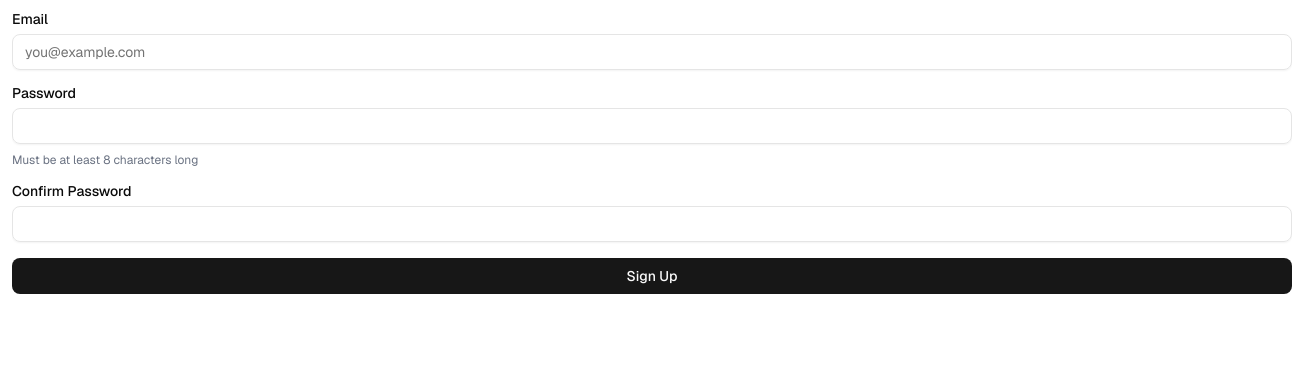
it: SignUpForm › failed sign up › displays fallback error when no error message provided
The image size is (1304, 365).
Type "password123" into the password field labelled "Password". click: (652, 126)
box: x1=12 y1=108 x2=1292 y2=144
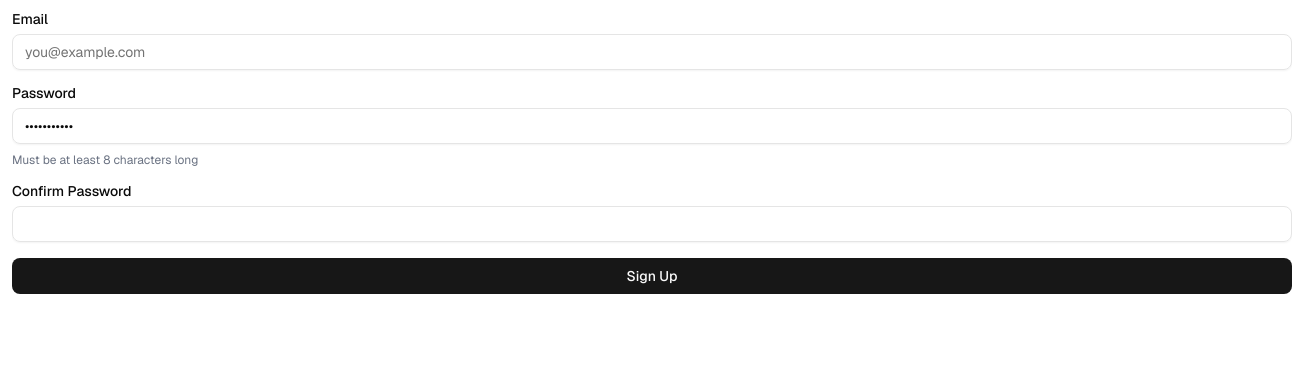
Type "password123" into the password field labelled "Confirm Password". click: (652, 224)
box: x1=12 y1=206 x2=1292 y2=242
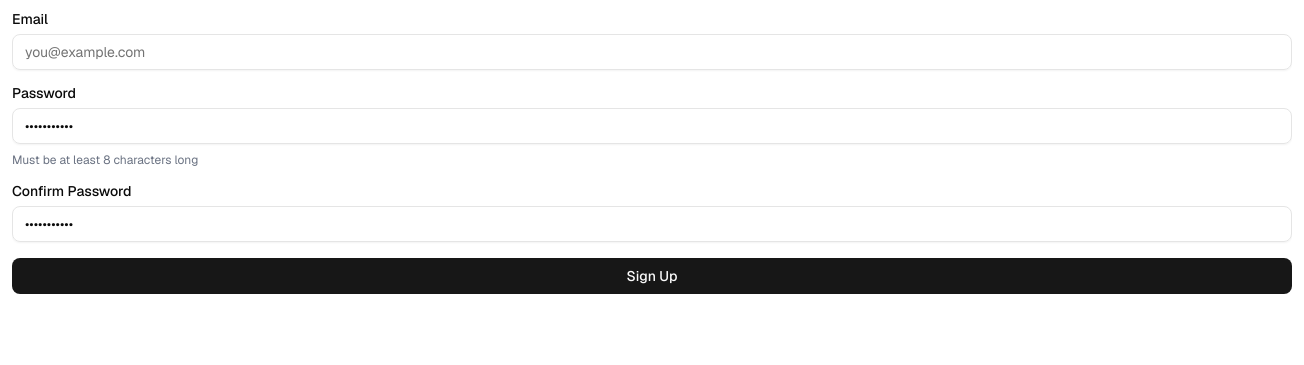
Submit the form from the button "Sign Up", box x1=12 y1=258 x2=1292 y2=294
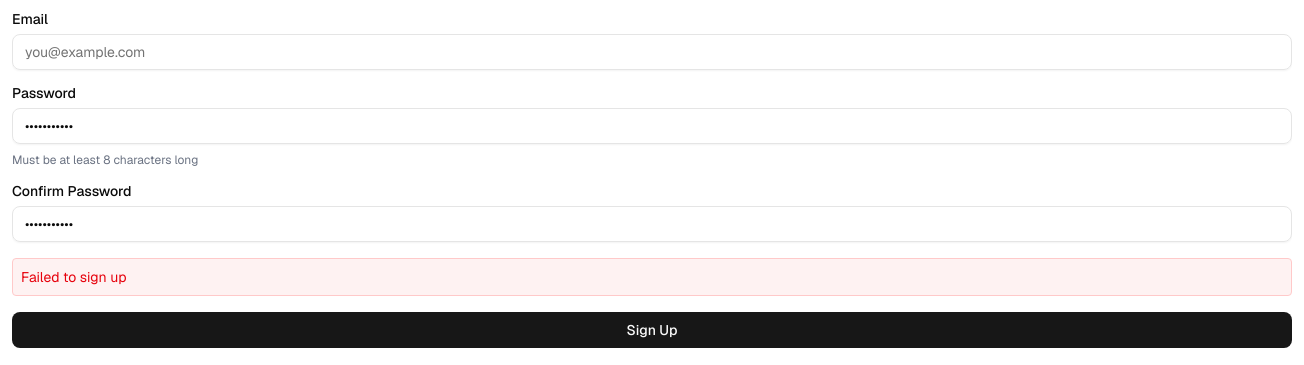
Now the text "Failed to sign up" is shown, box x1=12 y1=258 x2=1292 y2=296
